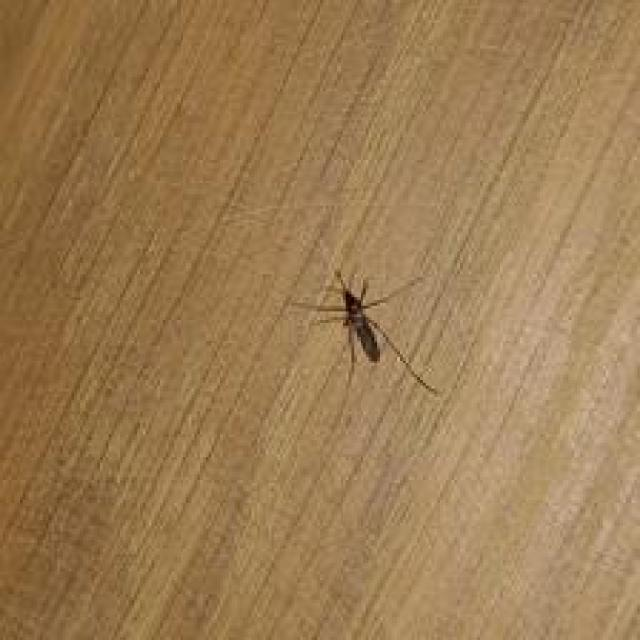Culex: (287, 267, 442, 396)
